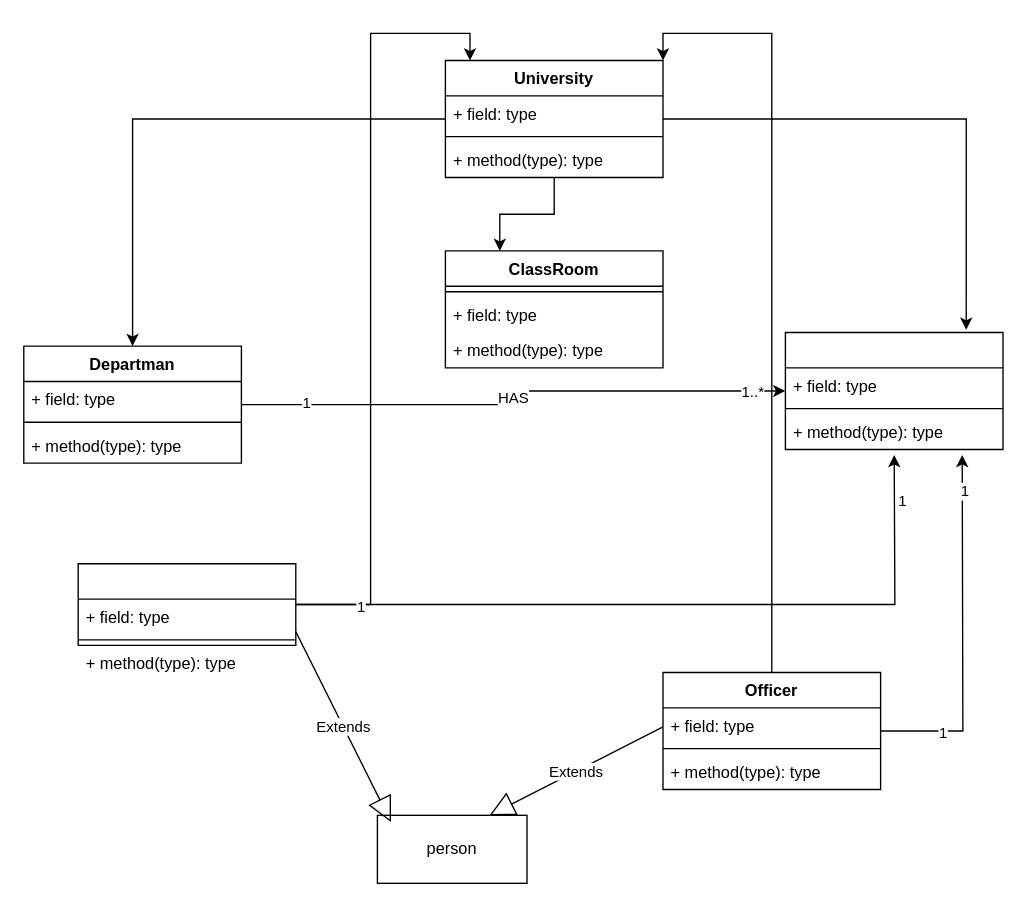
Some shapes in this 1027 by 907 pixel diagram are drawn without their labels. The shapes that lost their labels are listed below. From the top down, each one's box as (x1, y1, x2, y2) in pixels, then its label:
(784, 331, 1003, 449): WorkOffice
(77, 562, 296, 645): Professor
